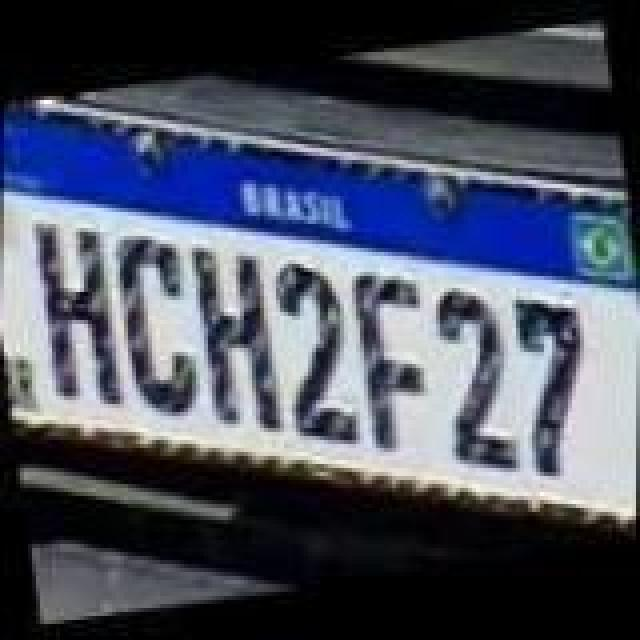2: (264, 250, 368, 454), (418, 276, 522, 480)
7: (494, 276, 606, 484)
C: (108, 218, 212, 418)
F: (342, 262, 450, 470)
H: (24, 206, 136, 418), (180, 238, 292, 446)
